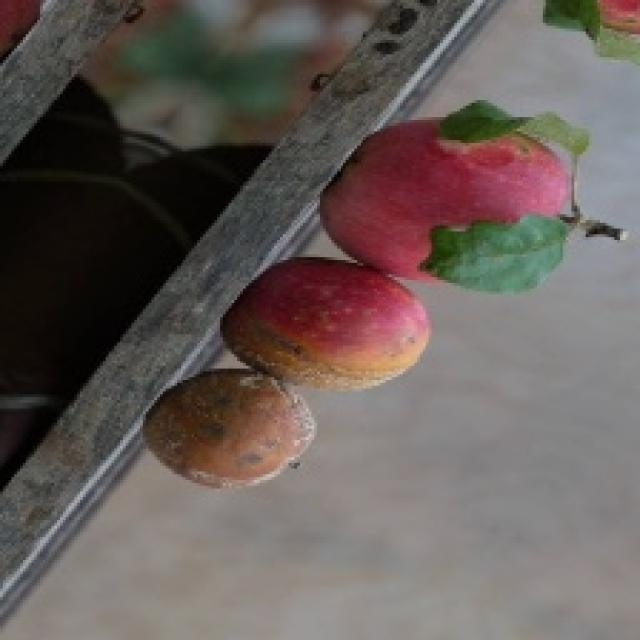rotten_apple: (227, 257, 432, 389), (152, 372, 318, 488)
